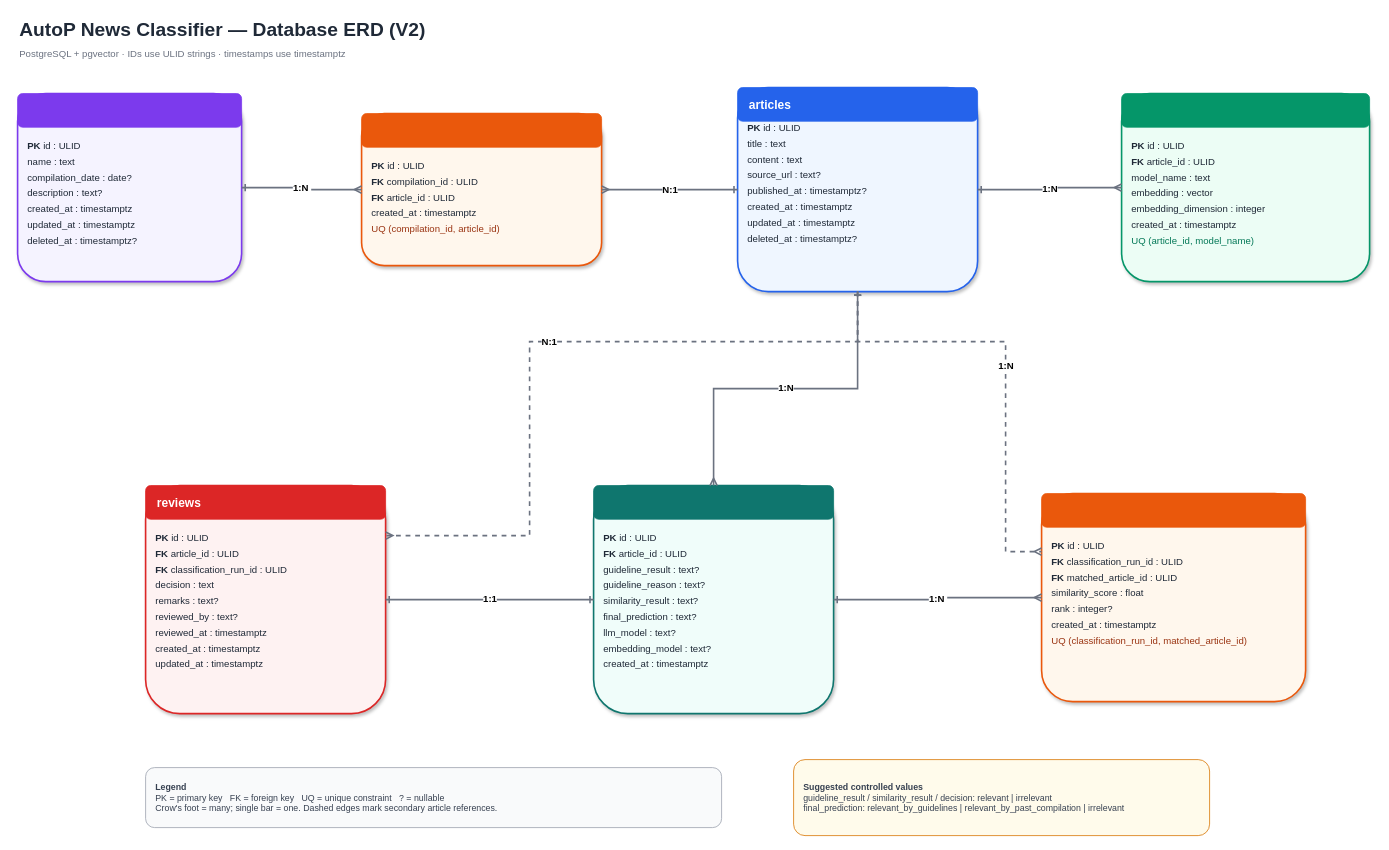
Image size: 1389x850. Some labels were removed from this diagram. The centre of each missing label's shape, as x and y in pixels:
"article_embeddings" goes at pixel 1245 110.
"classification_matches" goes at pixel 1173 510.
"classification_runs" goes at pixel 713 502.
"compilation_articles" goes at pixel 481 130.
"compilations" goes at pixel 129 110.
